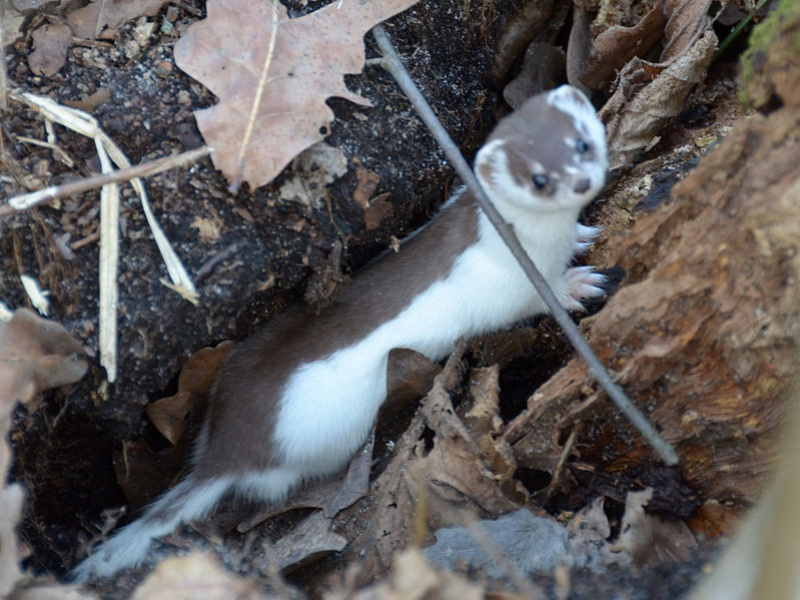minkish: (84, 83, 604, 587)
